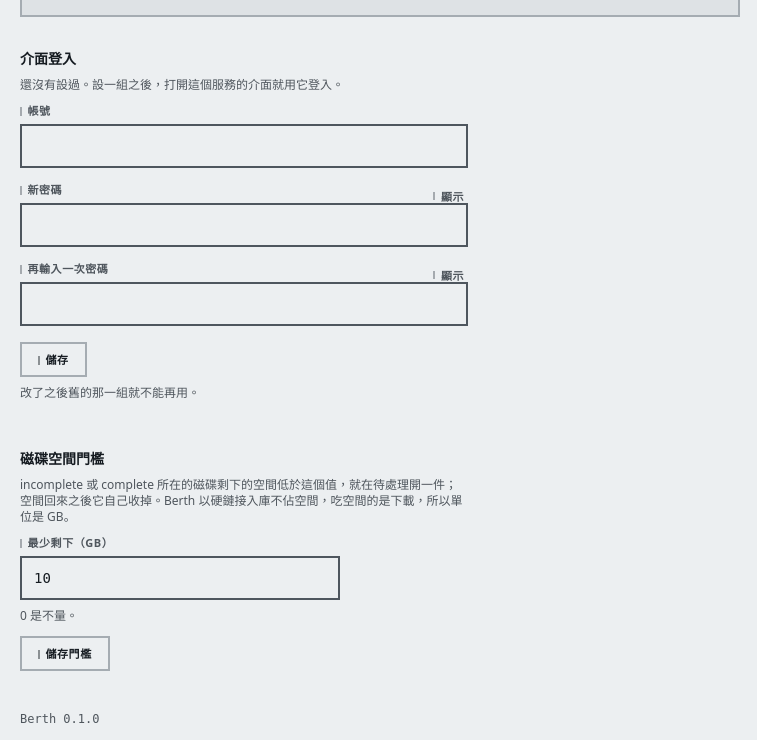
Test: 設定 → qBittorrent › 磁碟空間門檻在設定裡，改了就存（M2 票 09c）
(page scrolled)
Replace the text in the field labelled "最少剩下（GB）" with "50": (180, 578) [20,556,340,600]
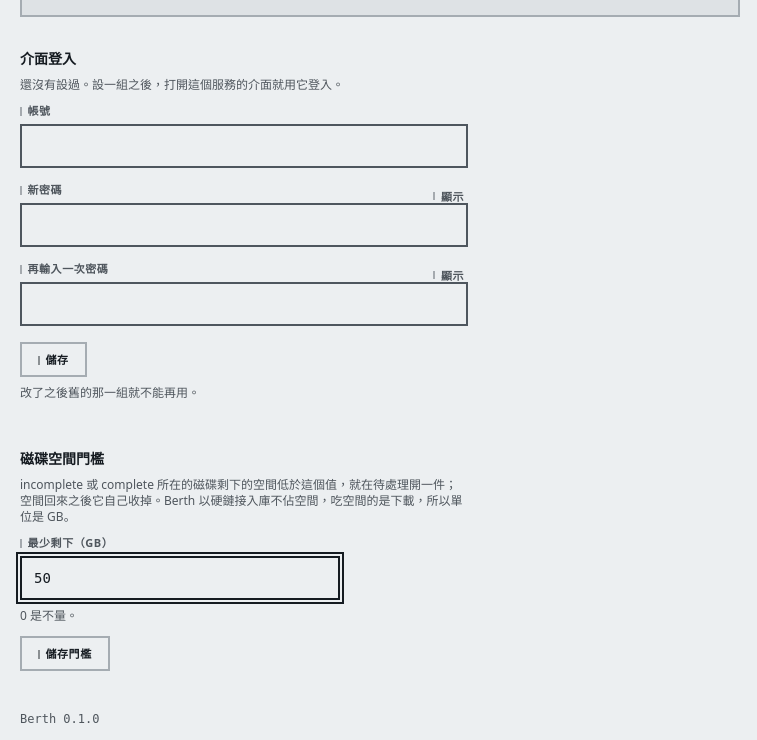
Click the button "儲存門檻": (65, 654) [20,636,110,671]
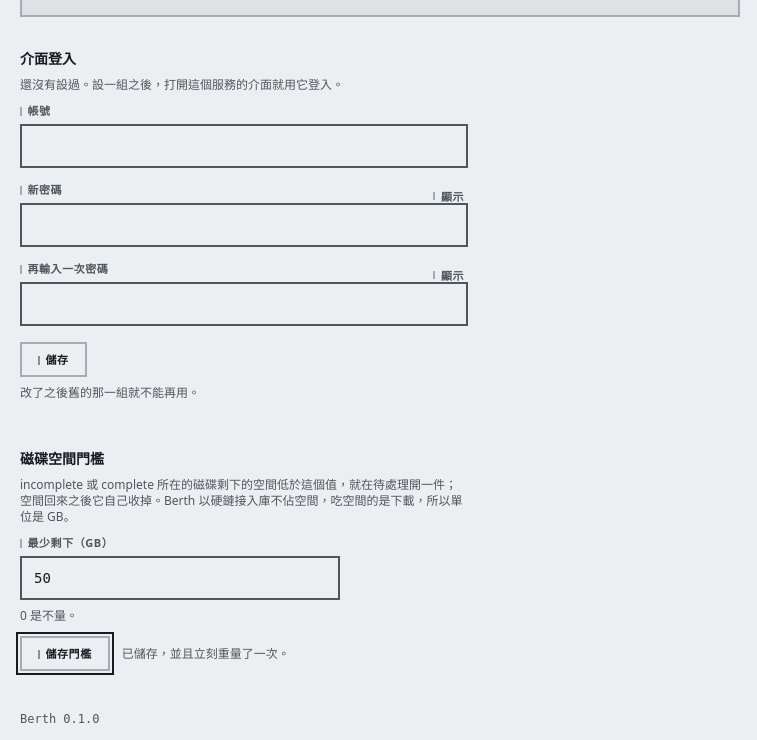
Now the text "已儲存，並且立刻重量了一次。" is shown, box [122,646,290,662]
